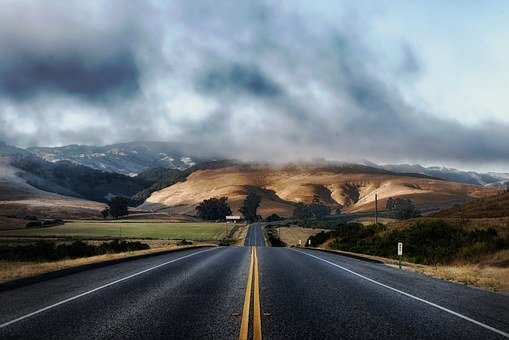mountain: (1, 138, 501, 252)
sky: (1, 1, 502, 167)
